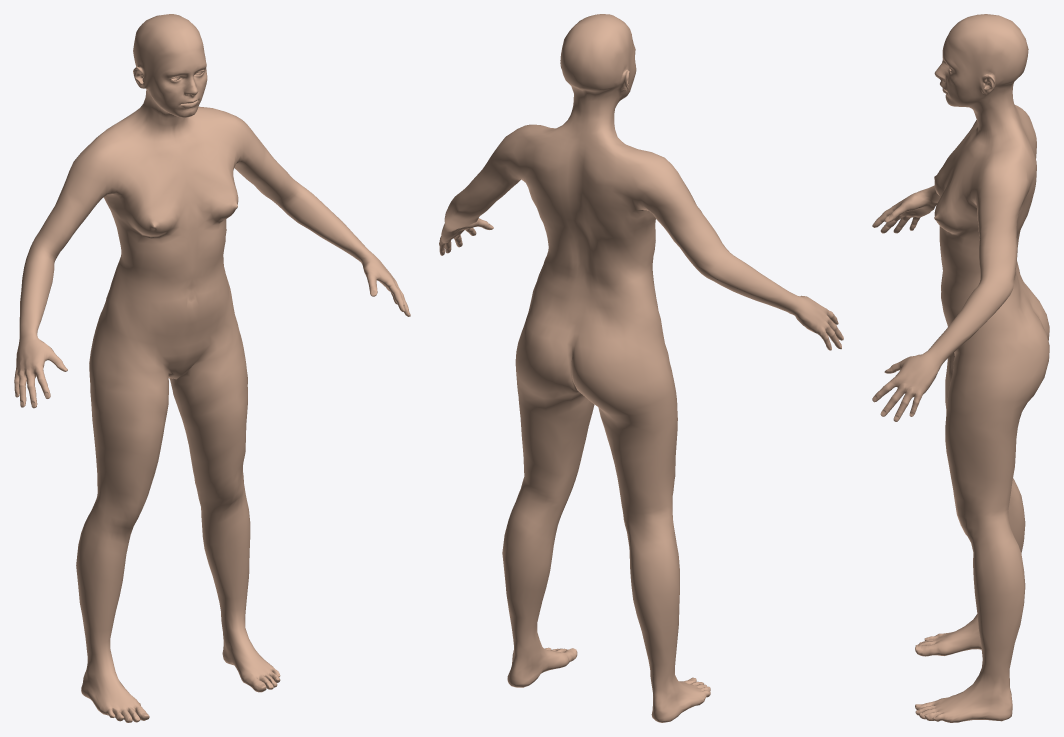
The model's file is female.glb.
3 renders of one model, left to right at view 1: azimuth 30°, elevation 25°; view 2: azimuth 150°, elevation 25°; view 3: azimuth 270°, elevation 25°, orthographic. The views are drawn at different scales.
Parts seen in each view (by area): view 1: Body; view 2: Body; view 3: Body.
Part boxes in pixels (left/top/right/bottom): Body: left=14, top=14, right=410, bottom=722; Body: left=439, top=14, right=843, bottom=722; Body: left=872, top=14, right=1049, bottom=722.
Bounding box in the file's own units: 1.1 × 1.8 × 0.4346.
